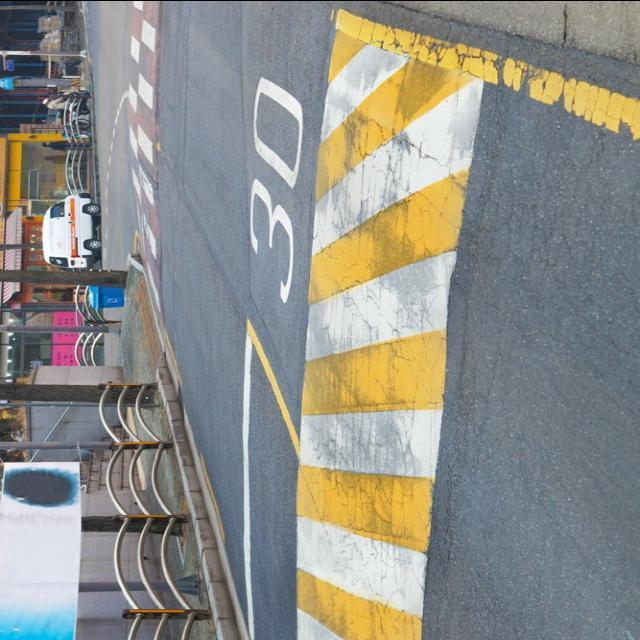speedbreaker: (278, 0, 491, 640)
